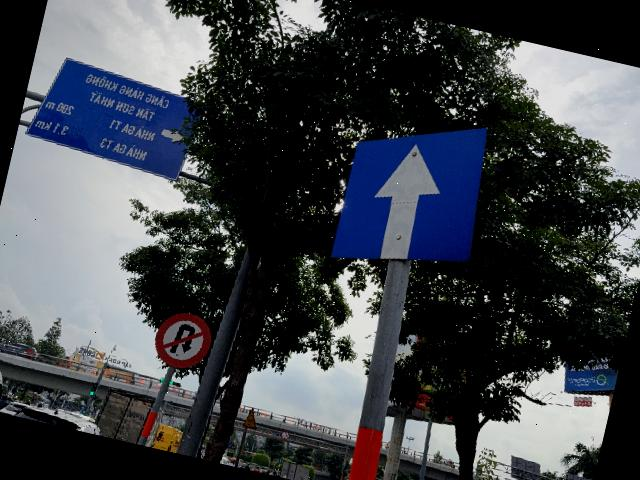cam-quay-dau-xe: (149, 306, 216, 374)
duong-mot-chieu: (330, 100, 499, 287)
